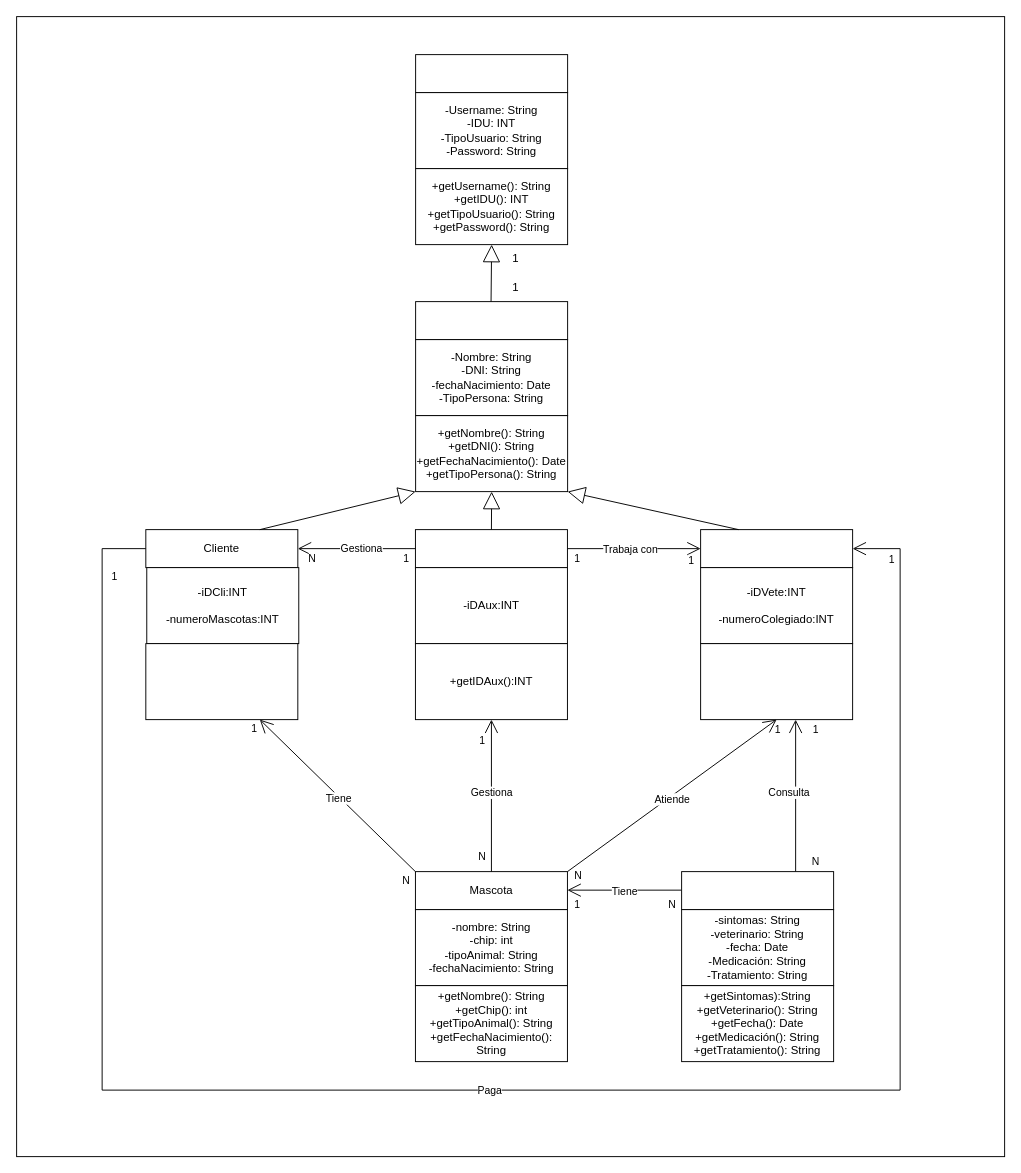
This 1021x1173 diagram has some shape labels left out. The shapes that lost their labels are listed below. From the top down, each one's centre as x and y in pixels, then its label:
At point 491,73: "Usuario".
At point 491,320: "Persona".
At point 490,548: "Auxiliar".
At point 776,548: "Veterinario".
At point 221,681: "+getIDCli():INT +getNumeroMascotas():INT".
At point 776,681: "+getIDVete():INT +getNumeroColegiado():INT".
At point 757,890: "Ficha medica".
